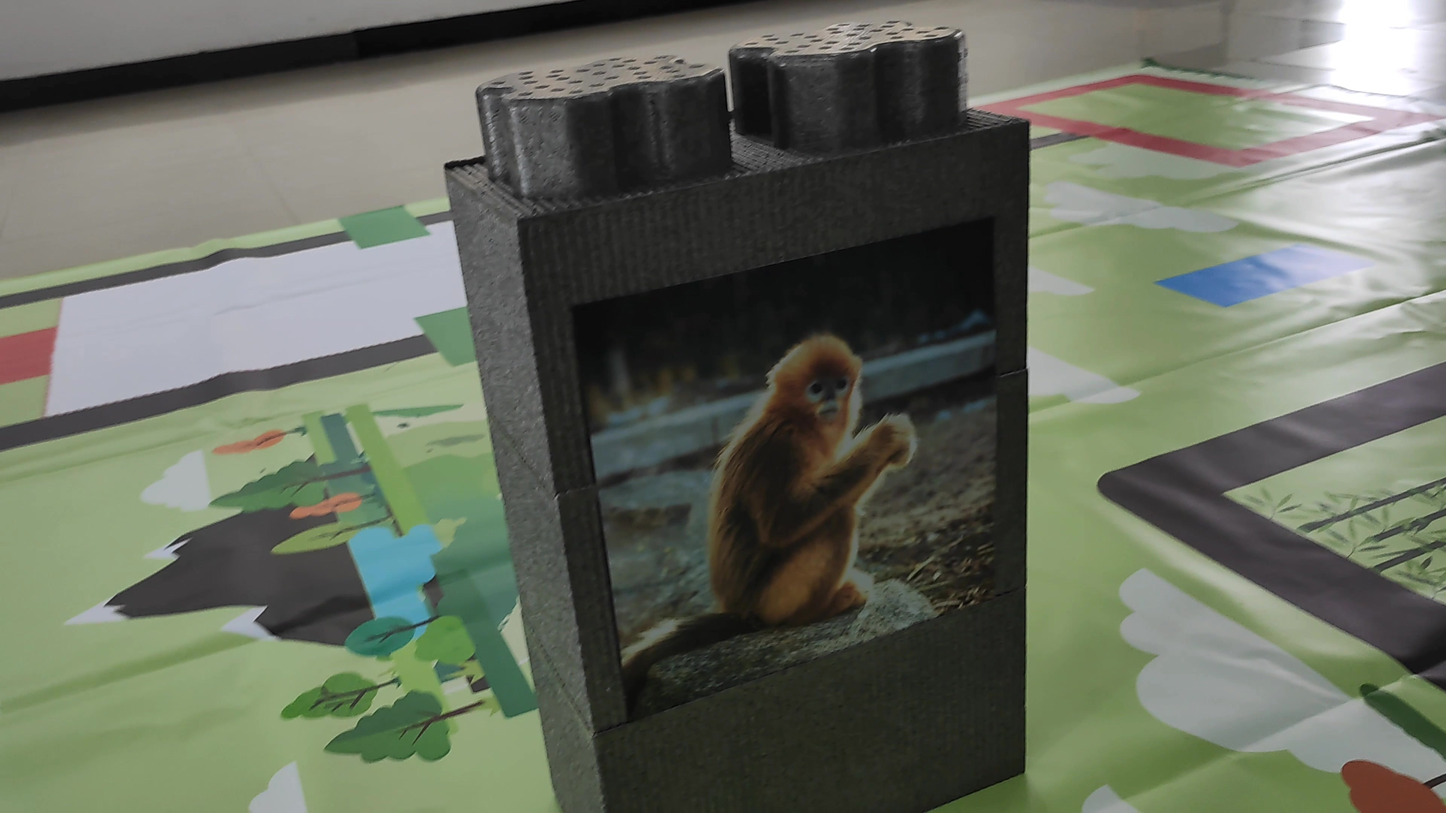monkey: (650, 288, 964, 645)
